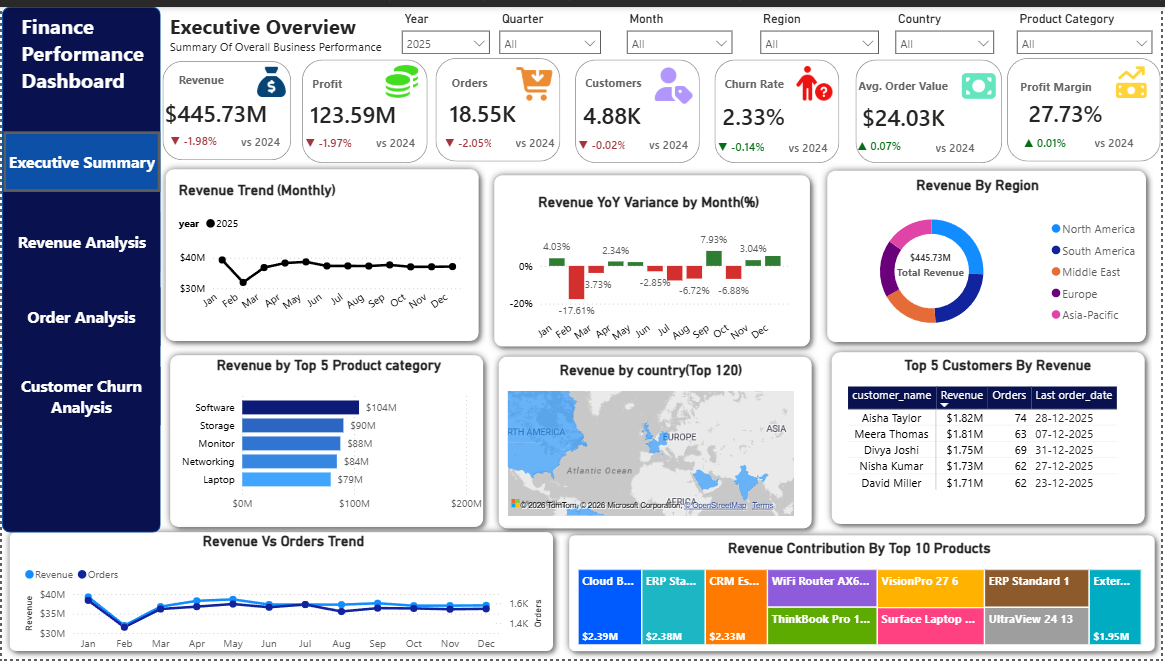

The dashboard page shown, as its layout file describes it:
{"tool":"powerbi","page":{"name":"Executive  Summary","canvas":[1366,768],"ordinal":0},"visuals":[{"type":"cardVisual","title":"yoy display","fields":{"Data":["_measures.Revenue YoY Display"]},"box":[169.2,125.6,124.7,60.6],"z":0,"group":"g1"},{"type":"cardVisual","title":"yoy display","fields":{"Data":["_measures.Orders YoY Display"]},"box":[493.6,126.3,125,63.4],"z":0,"group":"g3"},{"type":"cardVisual","title":"yoy display","fields":{"Data":["_measures.Profit Margin YoY Display"]},"box":[1175.9,126.4,125,63.4],"z":0,"group":"g7"},{"type":"cardVisual","title":"yoy display","fields":{"Data":["_measures.Profit YoY Display"]},"box":[329.1,126.7,125.8,61.7],"z":0,"group":"g2"},{"type":"cardVisual","title":"yoy display","fields":{"Data":["_measures.Customers YoY Display"]},"box":[649.4,128.5,125,63.4],"z":0,"group":"g4"},{"type":"cardVisual","title":"yoy display","fields":{"Data":["_measures.Churn YoY Display"]},"box":[813.9,130.4,125,65.2],"z":0,"group":"g5"},{"type":"cardVisual","title":"yoy display","fields":{"Data":["_measures.AOV YoY Display"]},"box":[978.4,130.9,138.3,63.9],"z":0,"group":"g6"},{"type":"shape","box":[184.3,182.1,386.9,220.4],"z":0,"group":"g8"},{"type":"shape","box":[964.2,184.3,393.6,220],"z":0,"group":"g10"},{"type":"shape","box":[570,188.6,390,220],"z":0,"group":"g9"},{"type":"shape","box":[968.3,398.4,386.9,220.4],"z":0,"group":"g13"},{"type":"shape","box":[189.1,401.2,386.9,220.4],"z":0,"group":"g11"},{"type":"shape","box":[576.3,402.6,386.9,220.4],"z":0,"group":"g12"},{"type":"cardVisual","fields":{"Data":["_measures.Comparison Text"]},"box":[252,124.4,107.7,64.2],"z":1000,"group":"g1"},{"type":"cardVisual","fields":{"Data":["_measures.Comparison Text"]},"box":[576.6,125.1,108,67.1],"z":1000,"group":"g3"},{"type":"cardVisual","fields":{"Data":["_measures.Comparison Text"]},"box":[1258.9,125.1,108,67.1],"z":1000,"group":"g7"},{"type":"cardVisual","fields":{"Data":["_measures.Comparison Text"]},"box":[412.6,125.5,108.7,65.3],"z":1000,"group":"g2"},{"type":"cardVisual","fields":{"Data":["_measures.Comparison Text"]},"box":[732.4,127.3,108,67.1],"z":1000,"group":"g4"},{"type":"cardVisual","fields":{"Data":["_measures.Comparison Text"]},"box":[896.9,129.2,108,69],"z":1000,"group":"g5"},{"type":"cardVisual","fields":{"Data":["_measures.Comparison Text"]},"box":[1070.2,129.6,119.5,67.7],"z":1000,"group":"g6"},{"type":"donutChart","title":"Revenue By Region","fields":{"Category":["dim_geography.region"],"Y":["_measures.Revenue"]},"box":[949.3,200.8,400.9,192.6],"z":1000,"group":"g10"},{"type":"lineChart","title":"Revenue Trend (Monthly)","fields":{"Y":["Sum(fact_sales.net_sales)"],"Series":["dim_date.year"],"Category":["dim_date.shorter_month"]},"box":[204.1,205.9,342,172.5],"z":1000,"group":"g8"},{"type":"clusteredColumnChart","title":"Revenue YoY Variance by Month(%)","fields":{"Category":["dim_date.shorter_month"],"Y":["_measures.Revenue YoY %"]},"box":[591.7,219,339.4,195.7],"z":1000,"group":"g9"},{"type":"pivotTable","title":"Top 5 Customers By Revenue","fields":{"Rows":["dim_customer.customer_name"],"Values":["_measures.Revenue","_measures.Orders","Max(fact_sales.order_date)"]},"box":[990.8,412.4,363.7,182.9],"z":1000,"group":"g13"},{"type":"barChart","title":"Revenue by Top 5 Product category","fields":{"Y":["_measures.Revenue"],"Category":["dim_products.category"]},"box":[200.5,412.7,370.8,191],"z":1000,"group":"g11"},{"type":"filledMap","title":"Revenue by country(Top 120)","fields":{"Category":["dim_geography.country"]},"box":[590.8,416.5,357,183],"z":1000,"group":"g12"},{"type":"cardVisual","fields":{"Data":["_measures.Orders"]},"box":[498.6,71.6,166,103.2],"z":2000,"group":"g3"},{"type":"cardVisual","fields":{"Data":["_measures.Profit Margin"]},"box":[1180.9,71.7,166,103.2],"z":2000,"group":"g7"},{"type":"cardVisual","fields":{"Data":["_measures.Profit"]},"box":[334.1,73.5,167,100.4],"z":2000,"group":"g2"},{"type":"cardVisual","fields":{"Data":["_measures.Customers"]},"box":[654.4,73.8,166,103.2],"z":2000,"group":"g4"},{"type":"cardVisual","fields":{"Data":["_measures.Churn Rate"]},"box":[818.9,74.2,166,106.1],"z":2000,"group":"g5"},{"type":"cardVisual","fields":{"Data":["_measures.Average Order Value"]},"box":[983.9,75.7,183.6,104.1],"z":2000,"group":"g6"},{"type":"cardVisual","fields":{"Data":["_measures.Revenue"]},"box":[162.3,90.3,186.5,66.8],"z":2000,"group":"g1"},{"type":"cardVisual","fields":{"Data":["_measures.Revenue"]},"box":[1023.4,266,141,77],"z":2000,"group":"g10"},{"type":"slicer","fields":{"Values":["dim_date.year"]},"box":[461.1,0,123.5,58.2],"z":3000},{"type":"textbox","title":"Revenue","box":[203,69.7,78.6,41.8],"z":3000,"group":"g1"},{"type":"textbox","title":"Orders","box":[524.6,74.1,64,38.5],"z":3000,"group":"g3"},{"type":"textbox","title":"Customers","box":[680.9,74.5,90,42.2],"z":3000,"group":"g4"},{"type":"textbox","title":"Revenue","box":[845.9,74.8,103.5,41],"z":3000,"group":"g5"},{"type":"textbox","title":"Profit","box":[360.3,75.9,64.4,37.5],"z":3000,"group":"g2"},{"type":"textbox","title":"Avg Order Value","box":[1002.6,77.7,135.6,40.4],"z":3000,"group":"g6"},{"type":"textbox","title":"Profit Margin","box":[1194.9,78.5,109,35.5],"z":3000,"group":"g7"},{"type":"shape","title":"Rectangle","box":[510.6,59.2,147,122],"z":4000,"group":"g3"},{"type":"shape","title":"Rectangle","box":[1184.9,59.7,181,122],"z":4000,"group":"g7"},{"type":"group","id":"g1","title":"Revenue Group","box":[162.3,61.4,197.4,127.2],"z":4000},{"type":"shape","title":"Rectangle","box":[353.2,61.4,147.9,122],"z":4000,"group":"g2"},{"type":"shape","title":"Rectangle","box":[673.4,61.4,147,122],"z":4000,"group":"g4"},{"type":"shape","title":"Rectangle","box":[837.9,61.4,147,122],"z":4000,"group":"g5"},{"type":"shape","title":"Rectangle","box":[1005.4,61.4,172.7,122],"z":4000,"group":"g6"},{"type":"shape","title":"Rectangle","box":[188.4,63.2,151.5,116.9],"z":4000,"group":"g1"},{"type":"image","box":[1309,61,45,54.7],"z":5000,"group":"g7"},{"type":"image","box":[294.9,61.4,44.9,52.3],"z":5000,"group":"g1"},{"type":"group","id":"g2","title":"Profit Group","box":[329.1,61.4,192.2,129.5],"z":5000},{"type":"image","box":[933,62,45,56.2],"z":5000,"group":"g5"},{"type":"image","box":[436,63,69,48],"z":5000,"group":"g2"},{"type":"image","box":[765,63,50,54],"z":5000,"group":"g4"},{"type":"image","box":[1125.5,65.5,49.8,55.2],"z":5000,"group":"g6"},{"type":"image","box":[595,66,72,48],"z":5000,"group":"g3"},{"type":"group","id":"g3","title":"Orders Group","box":[493.6,59.2,191,133],"z":6000},{"type":"group","id":"g4","title":"Customers Group","box":[649.4,61.4,191,133],"z":7000},{"type":"group","id":"g5","title":"Churn Rate Group","box":[813.9,61.4,191,136.8],"z":8000},{"type":"group","id":"g6","title":"Avg Order Value Group","box":[978.4,61.4,210.6,136],"z":9000},{"type":"group","id":"g7","title":"Profit Margin Group","box":[1175.9,59.7,191,132.5],"z":10000},{"type":"textbox","box":[192.2,0,272.7,73.2],"z":11000},{"type":"slicer","fields":{"Values":["dim_date.quarter"]},"box":[575.8,0,139.1,73.2],"z":12000},{"type":"slicer","fields":{"Values":["dim_date.month_name"]},"box":[725.6,0,143.9,73.5],"z":13000},{"type":"slicer","fields":{"Values":["dim_geography.region"]},"box":[883.3,0,159.2,73.5],"z":14000},{"type":"slicer","fields":{"Values":["dim_geography.country"]},"box":[1043,0,136.2,73.5],"z":15000},{"type":"slicer","fields":{"Values":["dim_products.category"]},"box":[1186,0,179.4,58.6],"z":16000},{"type":"group","id":"g8","title":"Revenue Trend Group","box":[184.3,182.1,386.1,221.6],"z":17000},{"type":"group","id":"g9","title":"Revenue YoY Group","box":[570,188.6,389.9,226.7],"z":18000},{"type":"group","id":"g10","title":"Revenue By Region","box":[949.3,184.3,409,220.4],"z":19000},{"type":"group","id":"g11","title":"Revenue Trend Group","box":[189.1,401.2,386.9,217.8],"z":20000},{"type":"group","id":"g12","title":"Revenue By Country","box":[576.3,402.6,387.8,218.2],"z":21000},{"type":"group","id":"g13","title":"Top 5 Customers By Revenue","box":[968.3,398.4,385.6,216.1],"z":22000},{"type":"group","id":"g14","title":"Group 1","box":[658.8,613.3,707.8,154.7],"z":23000},{"type":"group","id":"g15","title":"Group 2","box":[0,609.9,658.1,158],"z":24000},{"type":"shape","box":[658.8,613.3,707.8,154.7],"z":24000,"group":"g14"},{"type":"group","id":"g16","title":"Title Group","box":[0,0,187.6,619.1],"z":25000},{"type":"treemap","title":"Revenue Contribution By Top 10 Products","fields":{"Group":["dim_products.product_name"],"Values":["_measures.Revenue"]},"box":[673.1,627.6,673.4,129],"z":25000,"group":"g14"},{"type":"shape","box":[0,609.9,658.1,158],"z":26000,"group":"g15"},{"type":"lineChart","title":"Revenue Vs Orders Trend","fields":{"Category":["dim_date.shorter_month"],"Y":["_measures.Revenue"],"Y2":["_measures.Orders"]},"box":[21.9,618.7,620.8,149.2],"z":27000,"group":"g15"},{"type":"shape","box":[0,0,187,619.1],"z":31500,"group":"g16"},{"type":"actionButton","box":[2,242.6,184.7,69],"z":32000,"group":"g16"},{"type":"actionButton","box":[0,331.3,187,68.8],"z":33000,"group":"g16"},{"type":"actionButton","box":[0,423.8,187,68.8],"z":34000,"group":"g16"},{"type":"actionButton","box":[2,146.2,184.7,71.1],"z":34500,"group":"g16"},{"type":"textbox","box":[17.9,0,169.6,117.5],"z":35000,"group":"g16"}]}

Visuals, with their boxes in screenshot pixels (x1, y1, x2, y2), scaled from the page's 1366x768 canvas onto the 1165x661 screenshot:
"yoy display" cardVisual: detection(144, 108, 251, 160)
"yoy display" cardVisual: detection(421, 109, 528, 163)
"yoy display" cardVisual: detection(1003, 109, 1109, 163)
"yoy display" cardVisual: detection(281, 109, 388, 162)
"yoy display" cardVisual: detection(554, 111, 660, 165)
"yoy display" cardVisual: detection(694, 112, 801, 168)
"yoy display" cardVisual: detection(834, 113, 952, 168)
shape: detection(157, 157, 487, 346)
shape: detection(822, 159, 1158, 348)
shape: detection(486, 162, 819, 352)
shape: detection(826, 343, 1156, 533)
shape: detection(161, 345, 491, 535)
shape: detection(492, 347, 821, 536)
cardVisual - _measures.Comparison Text: detection(215, 107, 307, 162)
cardVisual - _measures.Comparison Text: detection(492, 108, 584, 165)
cardVisual - _measures.Comparison Text: detection(1074, 108, 1164, 165)
cardVisual - _measures.Comparison Text: detection(352, 108, 445, 164)
cardVisual - _measures.Comparison Text: detection(625, 110, 717, 167)
cardVisual - _measures.Comparison Text: detection(765, 111, 857, 171)
cardVisual - _measures.Comparison Text: detection(913, 112, 1015, 170)
"Revenue By Region" donutChart: detection(810, 173, 1152, 339)
"Revenue Trend (Monthly)" lineChart: detection(174, 177, 466, 326)
"Revenue YoY Variance by Month(%)" clusteredColumnChart: detection(505, 188, 794, 357)
"Top 5 Customers By Revenue" pivotTable: detection(845, 355, 1155, 512)
"Revenue by Top 5 Product category" barChart: detection(171, 355, 487, 520)
"Revenue by country(Top 120)" filledMap: detection(504, 358, 808, 516)
cardVisual - _measures.Orders: detection(425, 62, 567, 150)
cardVisual - _measures.Profit Margin: detection(1007, 62, 1149, 151)
cardVisual - _measures.Profit: detection(285, 63, 427, 150)
cardVisual - _measures.Customers: detection(558, 64, 700, 152)
cardVisual - _measures.Churn Rate: detection(698, 64, 840, 155)
cardVisual - _measures.Average Order Value: detection(839, 65, 996, 155)
cardVisual - _measures.Revenue: detection(138, 78, 297, 135)
cardVisual - _measures.Revenue: detection(873, 229, 993, 295)
slicer - dim_date.year: detection(393, 0, 499, 50)
"Revenue" textbox: detection(173, 60, 240, 96)
"Orders" textbox: detection(447, 64, 502, 97)
"Customers" textbox: detection(581, 64, 657, 100)
"Revenue" textbox: detection(721, 64, 810, 100)
"Profit" textbox: detection(307, 65, 362, 98)
"Avg Order Value" textbox: detection(855, 67, 971, 102)
"Profit Margin" textbox: detection(1019, 68, 1112, 98)
"Rectangle" shape: detection(435, 51, 561, 156)
"Rectangle" shape: detection(1011, 51, 1164, 156)
"Revenue Group" group: detection(138, 53, 307, 162)
"Rectangle" shape: detection(301, 53, 427, 158)
"Rectangle" shape: detection(574, 53, 700, 158)
"Rectangle" shape: detection(715, 53, 840, 158)
"Rectangle" shape: detection(857, 53, 1005, 158)
"Rectangle" shape: detection(161, 54, 290, 155)
image: detection(1116, 53, 1155, 100)
image: detection(252, 53, 290, 98)
"Profit Group" group: detection(281, 53, 445, 164)
image: detection(796, 53, 834, 102)
image: detection(372, 54, 431, 96)
image: detection(652, 54, 695, 101)
image: detection(960, 56, 1002, 104)
image: detection(507, 57, 569, 98)
"Orders Group" group: detection(421, 51, 584, 165)
"Customers Group" group: detection(554, 53, 717, 167)
"Churn Rate Group" group: detection(694, 53, 857, 171)
"Avg Order Value Group" group: detection(834, 53, 1014, 170)
"Profit Margin Group" group: detection(1003, 51, 1164, 165)
textbox: detection(164, 0, 396, 63)
slicer - dim_date.quarter: detection(491, 0, 610, 63)
slicer - dim_date.month_name: detection(619, 0, 742, 63)
slicer - dim_geography.region: detection(753, 0, 889, 63)
slicer - dim_geography.country: detection(890, 0, 1006, 63)
slicer - dim_products.category: detection(1011, 0, 1164, 50)
"Revenue Trend Group" group: detection(157, 157, 486, 347)
"Revenue YoY Group" group: detection(486, 162, 819, 357)
"Revenue By Region" group: detection(810, 159, 1158, 348)
"Revenue Trend Group" group: detection(161, 345, 491, 533)
"Revenue By Country" group: detection(492, 347, 822, 534)
"Top 5 Customers By Revenue" group: detection(826, 343, 1155, 529)
"Group 1" group: detection(562, 528, 1164, 660)
"Group 2" group: detection(0, 525, 561, 660)
shape: detection(562, 528, 1164, 660)
"Title Group" group: detection(0, 0, 160, 533)
"Revenue Contribution By Top 10 Products" treemap: detection(574, 540, 1148, 651)
shape: detection(0, 525, 561, 660)
"Revenue Vs Orders Trend" lineChart: detection(19, 533, 548, 660)
shape: detection(0, 0, 159, 533)
actionButton: detection(2, 209, 159, 268)
actionButton: detection(0, 285, 159, 344)
actionButton: detection(0, 365, 159, 424)
actionButton: detection(2, 126, 159, 187)
textbox: detection(15, 0, 160, 101)
